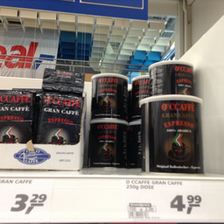coffee: (136, 92, 201, 173), (36, 92, 83, 144), (87, 118, 129, 168), (90, 72, 131, 118), (1, 90, 35, 143)
